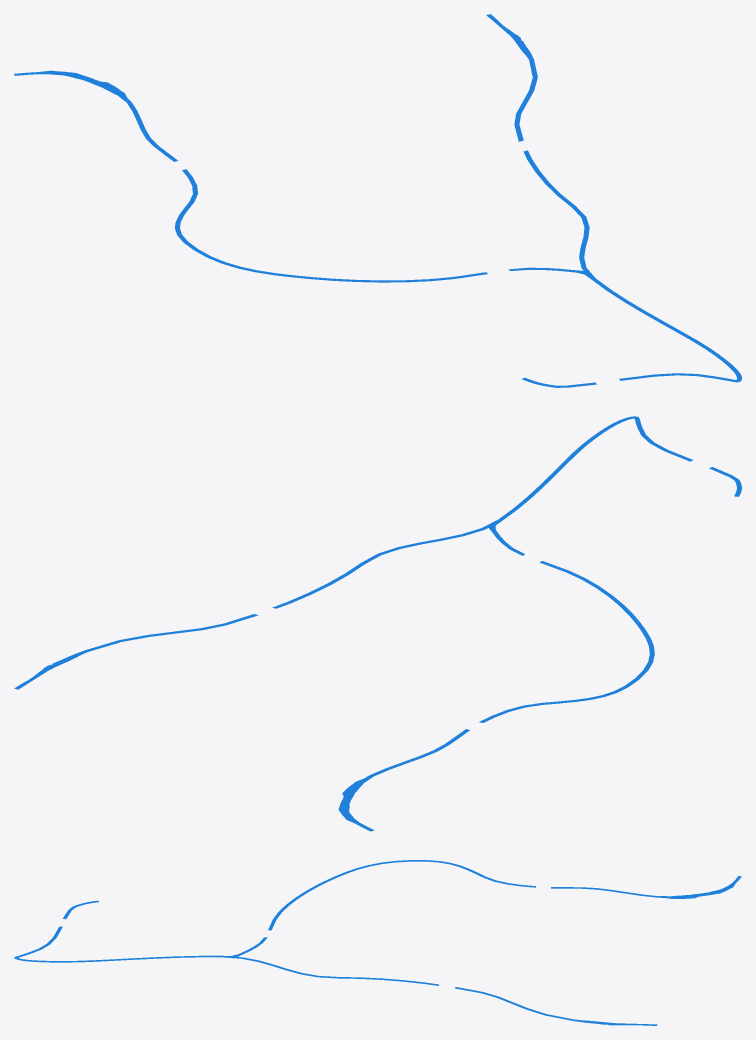
Rendered from mdl_riviere_eau.fbx.
The picture shows the model from 3 angles, top to bottom: view 1: azimuth 30°, elevation 25°; view 2: azimuth 150°, elevation 25°; view 3: azimuth 270°, elevation 25°; orthographic projection. The views are drawn at different scales.
Visible parts, largest first — view 1: mdl_riviere_eau; view 2: mdl_riviere_eau; view 3: mdl_riviere_eau.
Boxes of the visible parts, box(x1,y1,x2,y2) form: mdl_riviere_eau: box(14, 14, 741, 387); mdl_riviere_eau: box(14, 416, 741, 831); mdl_riviere_eau: box(14, 860, 741, 1025).
Bounding box in the file's own units: 381 × 4.26e-14 × 706.
